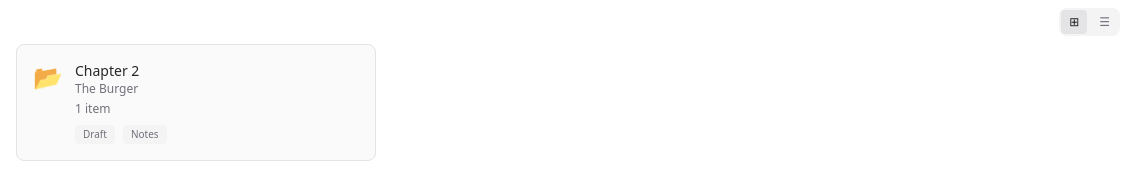
Test: FileBrowser › switches to the list layout
Check: the text "Chapter 2" is shown, box [75,61,139,80]
Step 1. Click the button titled "List view" → {"x": 1105, "y": 22}, box [1091,10,1118,34]
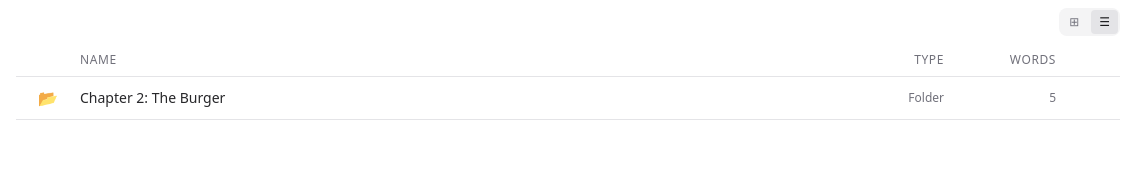
Check: the text "Name" is shown, box [80,51,117,68]
Check: the text "Chapter 2: The Burger" is shown, box [80,88,225,107]
Check: the text "Folder" is shown, box [908,89,944,106]
